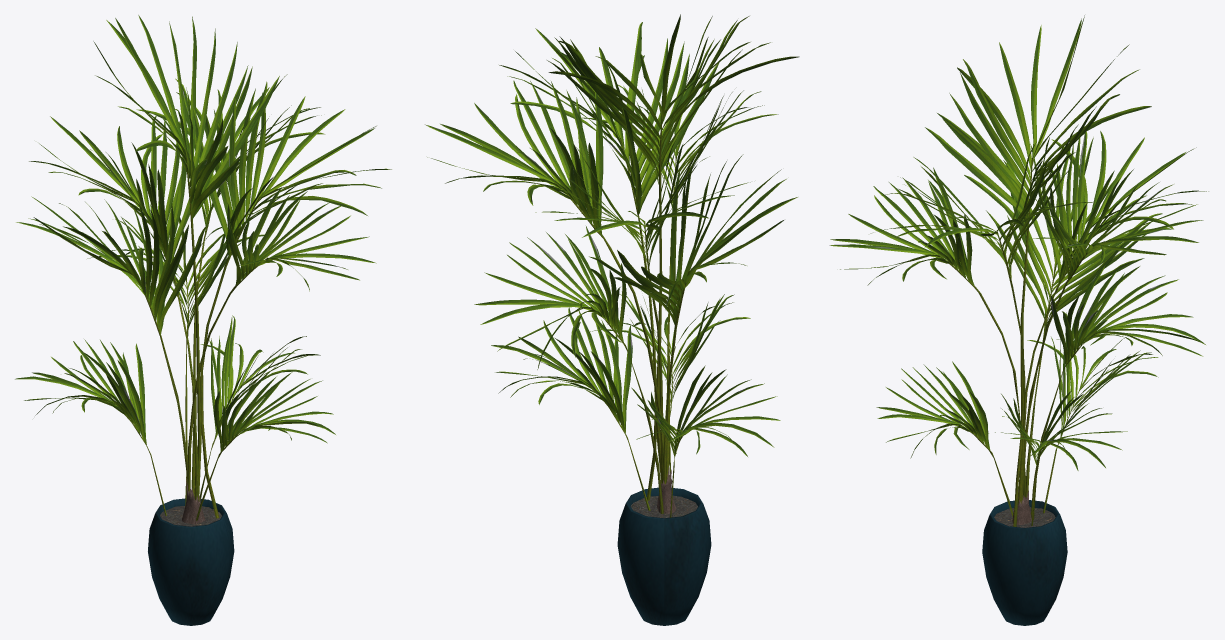
The model's file is indoor_plantS_04.glb.
3 views of the same model, side by side, from view 1: azimuth 30°, elevation 25°; view 2: azimuth 150°, elevation 25°; view 3: azimuth 270°, elevation 25° (orthographic). The views are drawn at different scales.
Visible parts, largest first — view 1: arch75_024_001; view 2: arch75_024_001; view 3: arch75_024_001.
Boxes of the visible parts, x1=… form: arch75_024_001: x1=15, y1=15, x2=391, y2=625; arch75_024_001: x1=424, y1=14, x2=799, y2=625; arch75_024_001: x1=829, y1=15, x2=1208, y2=625.
Bounding box in the file's own units: 1.32 × 2.43 × 1.45.
Materials: 1 (1 with a texture image).
